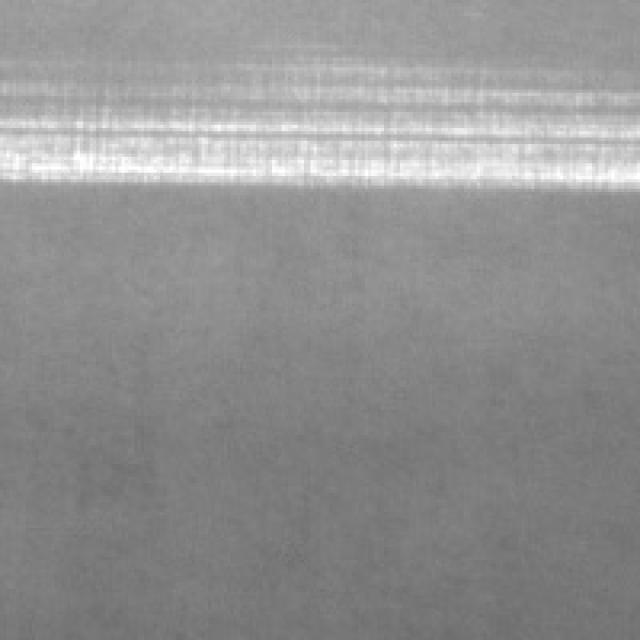scratches: (0, 77, 605, 179)
